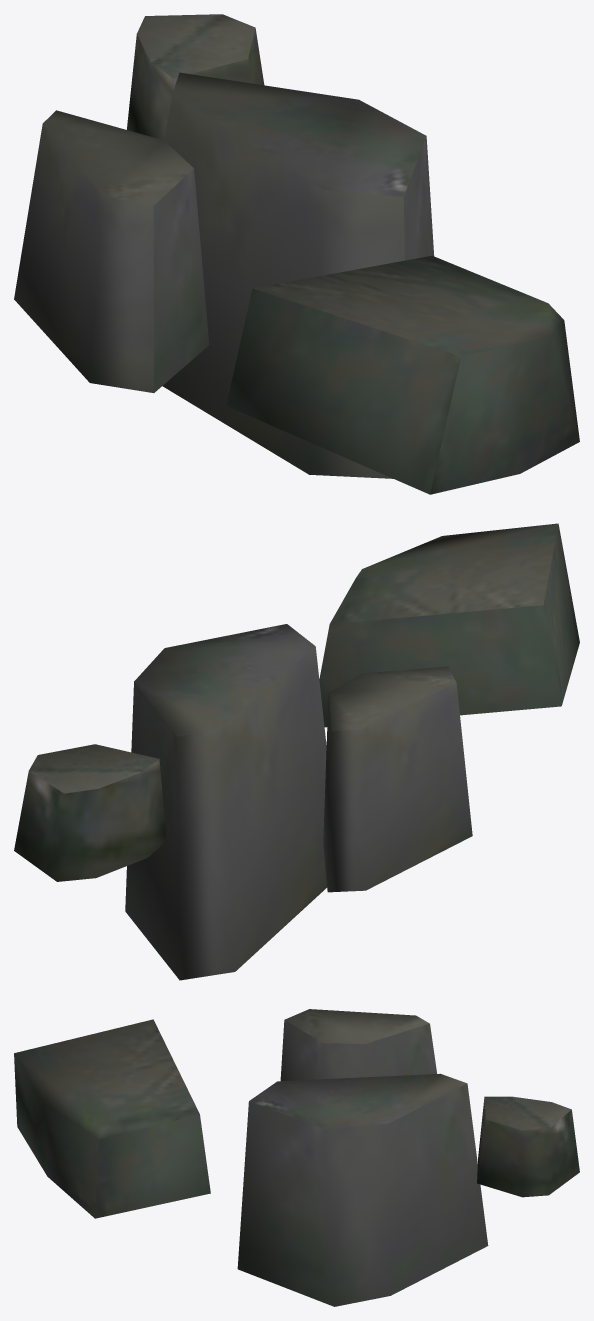
The model's file is stone_A2.fbx.
3 renders of one model, top to bottom at view 1: azimuth 30°, elevation 25°; view 2: azimuth 150°, elevation 25°; view 3: azimuth 270°, elevation 25°, orthographic. The views are drawn at different scales.
Parts seen in each view (by area): view 1: stone_A2; view 2: stone_A2; view 3: stone_A2.
Part boxes in pixels (x1,y1,x2,y2): stone_A2: (14,14,579,494); stone_A2: (14,523,579,980); stone_A2: (14,1009,579,1306).
Size of the model in its own units: 1.72 by 1.35 by 3.64.
